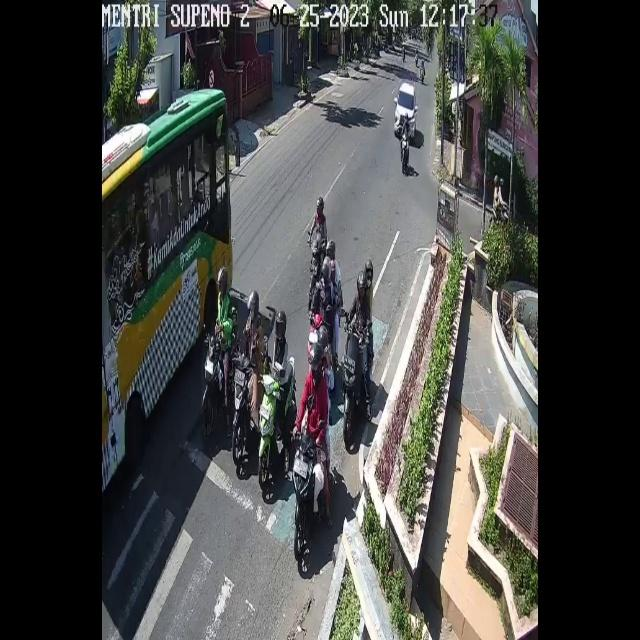bus: (204, 307, 238, 455), (259, 353, 296, 486), (232, 333, 268, 468), (294, 428, 329, 555), (343, 328, 374, 442), (306, 235, 323, 306), (308, 310, 327, 352), (399, 128, 410, 172)
car: (101, 89, 232, 495)
motorcycle: (394, 81, 417, 139)
